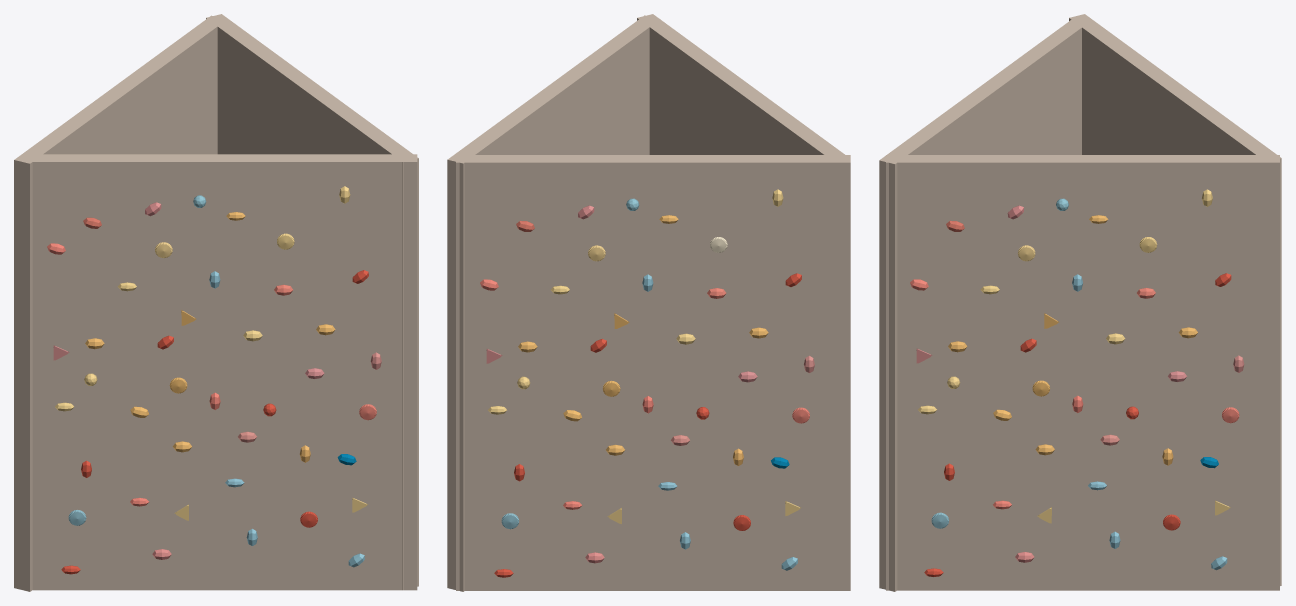
The model's file is ClimbingWall.fbx.
3 views of the same model, side by side, from view 1: azimuth 30°, elevation 25°; view 2: azimuth 150°, elevation 25°; view 3: azimuth 270°, elevation 25° (orthographic).
Parts seen in each view (by area): view 1: ClimbingWall; view 2: ClimbingWall; view 3: ClimbingWall.
Part boxes in pixels (<box>): ClimbingWall: <box>14,14,418,591</box>; ClimbingWall: <box>447,14,850,591</box>; ClimbingWall: <box>879,14,1281,591</box>.
Size of the model in its own units: 184 by 240 by 205.
